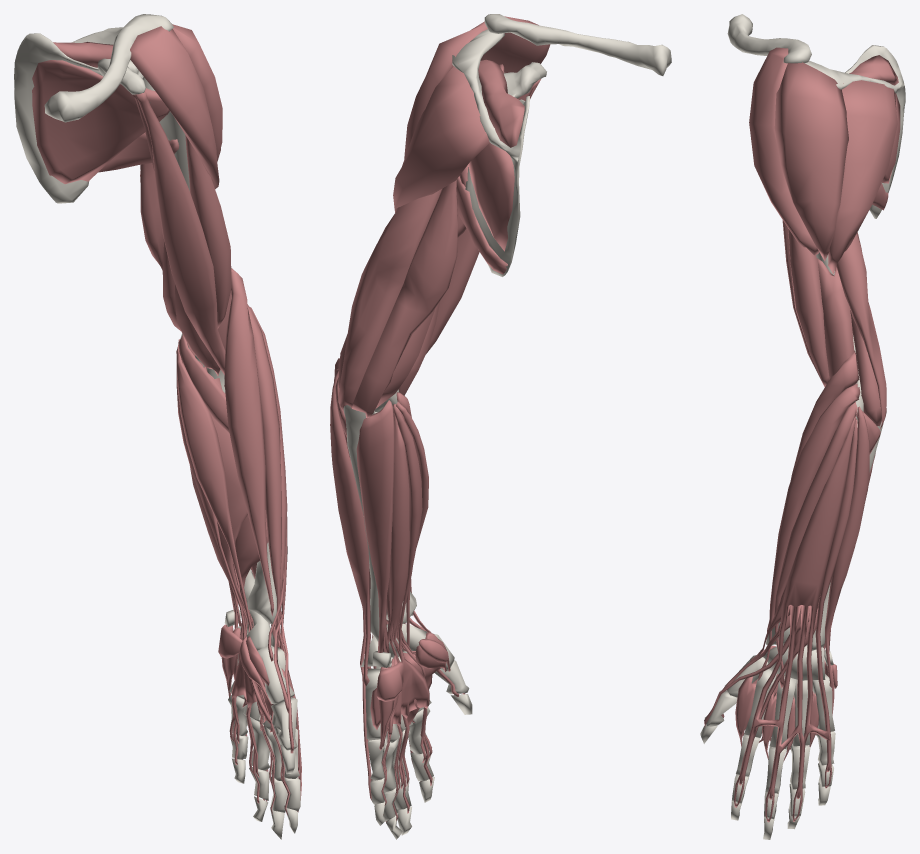
Rendered from simple_arm_anatomy.glb.
3 renders of one model, left to right at view 1: azimuth 30°, elevation 25°; view 2: azimuth 150°, elevation 25°; view 3: azimuth 270°, elevation 25°, orthographic. The views are drawn at different scales.
Visible parts, largest first — view 1: Object_4, Object_3, Object_2; view 2: Object_3, Object_4, Object_2; view 3: Object_3, Object_2, Object_4.
Part boxes in pixels (x1,y1,x2,y2): Object_4: [32, 41, 299, 815]; Object_3: [130, 24, 301, 812]; Object_2: [14, 14, 300, 839]; Object_3: [330, 16, 550, 821]; Object_4: [335, 59, 539, 820]; Object_2: [343, 14, 671, 839]; Object_3: [734, 47, 900, 822]; Object_2: [700, 14, 905, 839]; Object_4: [704, 55, 898, 773].
Size of the model in its own units: 0.3102 by 0.9092 by 0.2282.
